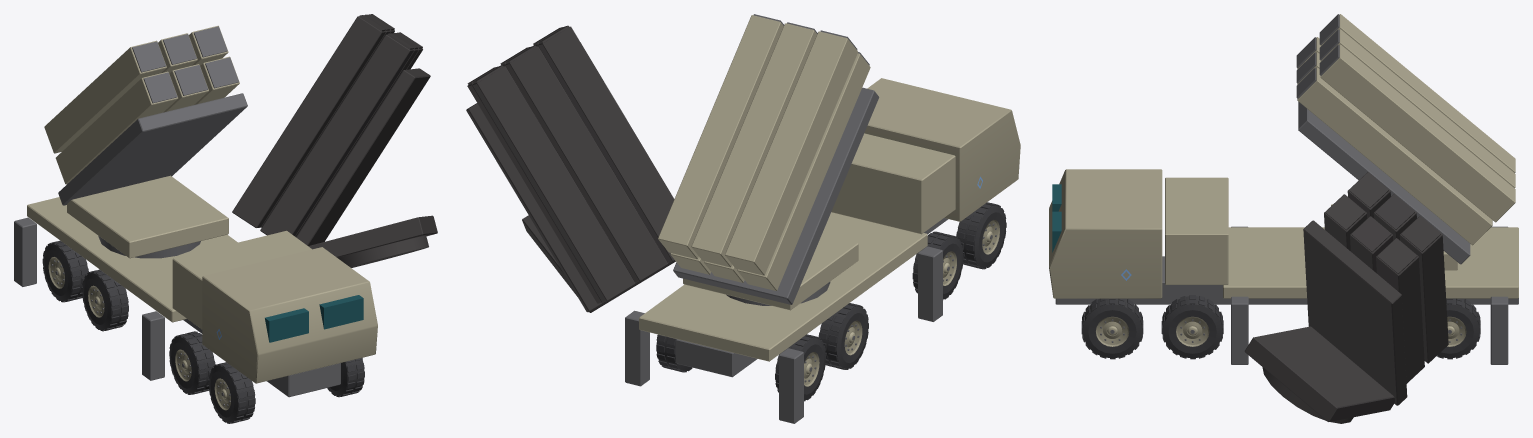
Rendered from samLauncher__type_03_chu_sam.glb.
3 renders of one model, left to right at view 1: azimuth 30°, elevation 25°; view 2: azimuth 150°, elevation 25°; view 3: azimuth 270°, elevation 25°, orthographic. The views are drawn at different scales.
Visible parts, largest first — view 1: Hull_Mesh, Wreck, Gun_Mesh, Turret_Mesh, Wheel_L1_Mesh, Wheel_L3_Mesh, Wheel_L2_Mesh, Wheel_L0_Mesh, Wheel_R3_Mesh; view 2: Hull_Mesh, Gun_Mesh, Wreck, Turret_Mesh, Wheel_L1_Mesh, Wheel_L3_Mesh, Wheel_L2_Mesh, Wheel_L0_Mesh, Wheel_R0_Mesh; view 3: Hull_Mesh, Wreck, Gun_Mesh, Wheel_R2_Mesh, Wheel_R3_Mesh, Wheel_R0_Mesh.
Part boxes in pixels (x1,y1,x2,y2): Hull_Mesh: (14, 197, 377, 397); Wreck: (51, 14, 437, 421); Gun_Mesh: (44, 25, 247, 205); Turret_Mesh: (67, 175, 228, 258); Wheel_L1_Mesh: (82, 269, 128, 331); Wheel_L3_Mesh: (208, 362, 255, 423); Wheel_L2_Mesh: (169, 331, 215, 394); Wheel_L0_Mesh: (42, 240, 88, 302); Wheel_R3_Mesh: (327, 357, 364, 397); Hull_Mesh: (625, 78, 1020, 423); Gun_Mesh: (658, 14, 879, 304); Wreck: (466, 25, 995, 392); Turret_Mesh: (683, 234, 858, 310); Wheel_L1_Mesh: (818, 303, 868, 369); Wheel_L3_Mesh: (956, 202, 1006, 269); Wheel_L2_Mesh: (912, 231, 963, 299); Wheel_L0_Mesh: (775, 334, 825, 401); Wheel_R0_Mesh: (656, 334, 692, 372); Hull_Mesh: (1049, 169, 1518, 364); Wreck: (1244, 172, 1448, 423); Gun_Mesh: (1296, 14, 1515, 264); Wheel_R2_Mesh: (1161, 295, 1223, 359); Wheel_R3_Mesh: (1081, 298, 1143, 359); Wheel_R0_Mesh: (1437, 298, 1480, 359).
Size of what is drawn, in the model's own units: 7.62 by 5.84 by 8.5.
